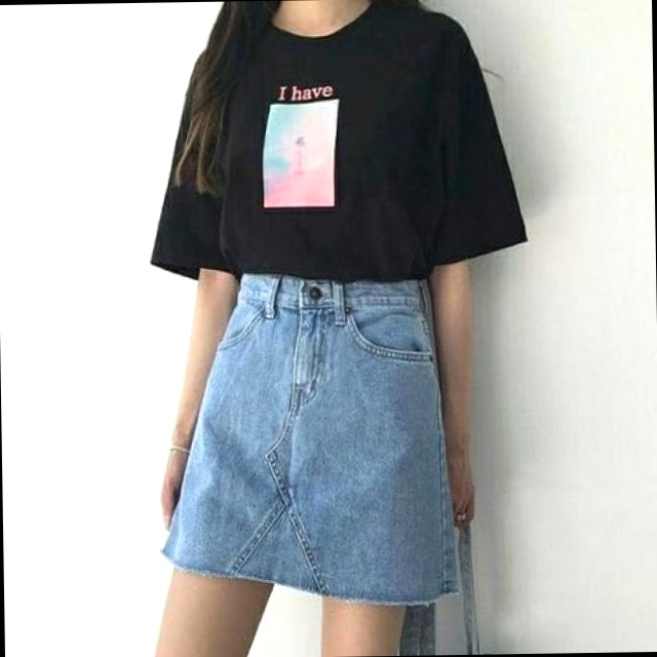Miniskirt: (146, 279, 463, 657)
